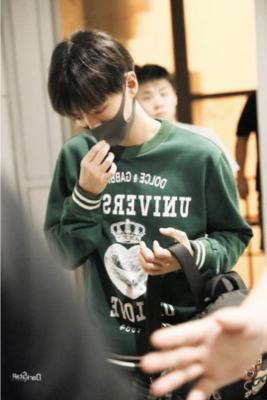with_mask: (69, 94, 128, 147)
without_mask: (135, 86, 175, 125)
